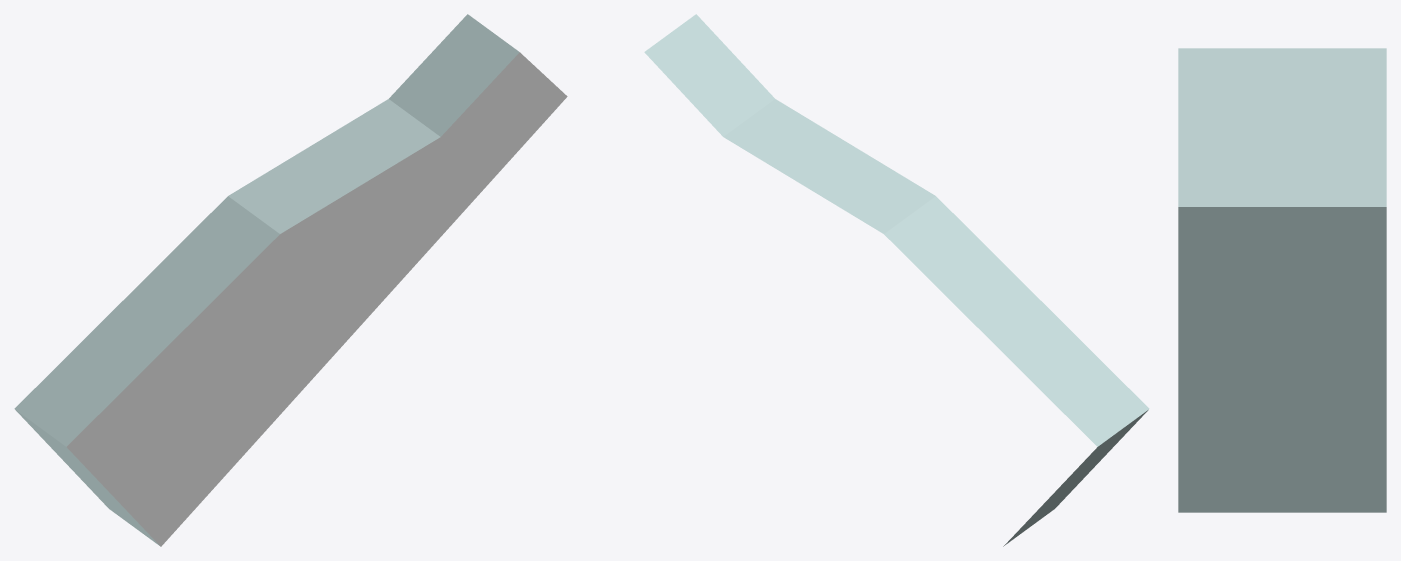
3 renders of one model, left to right at view 1: azimuth 30°, elevation 25°; view 2: azimuth 150°, elevation 25°; view 3: azimuth 270°, elevation 25°, orthographic. The views are drawn at different scales.
Parts seen in each view (by area): view 1: 0_2_2_3_2_3_1_0_3; view 2: 0_2_2_3_2_3_1_0_3; view 3: 0_2_2_3_2_3_1_0_3.
Part boxes in pixels (<box>): 0_2_2_3_2_3_1_0_3: <box>14,14,567,546</box>; 0_2_2_3_2_3_1_0_3: <box>644,14,1149,546</box>; 0_2_2_3_2_3_1_0_3: <box>1178,48,1386,512</box>.
Size of the model in its own units: 16.65 by 12.93 by 3.
